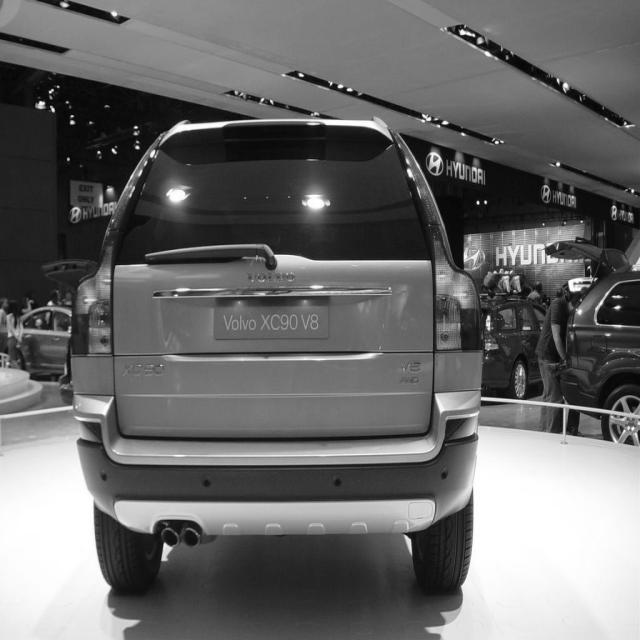car: (66, 115, 483, 595)
